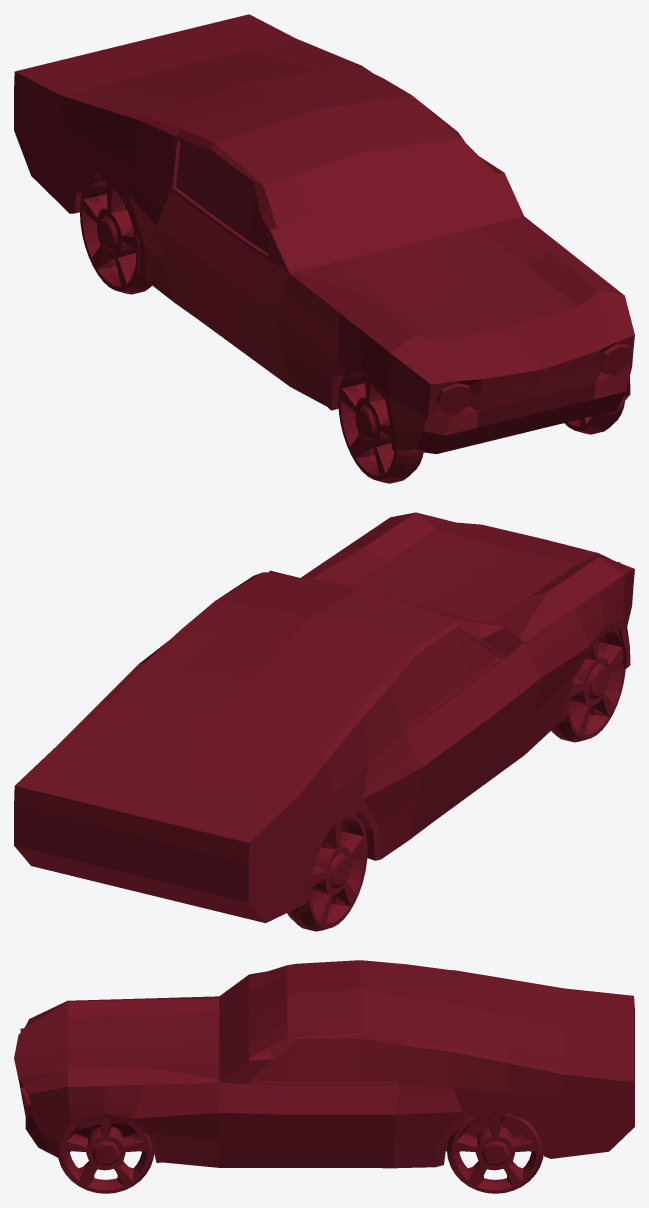
Rendered from Car_Ford_Mustang.fbx.
The picture shows the model from 3 angles, top to bottom: view 1: azimuth 30°, elevation 25°; view 2: azimuth 150°, elevation 25°; view 3: azimuth 270°, elevation 25°; orthographic projection. The views are drawn at different scales.
Visible parts, largest first — view 1: Cube; view 2: Cube; view 3: Cube.
Boxes of the visible parts, x1=… form: Cube: x1=14, y1=14, x2=634, y2=483; Cube: x1=14, y1=512, x2=634, y2=931; Cube: x1=14, y1=960, x2=634, y2=1193.
Size of the model in its own units: 173 by 136 by 462.
